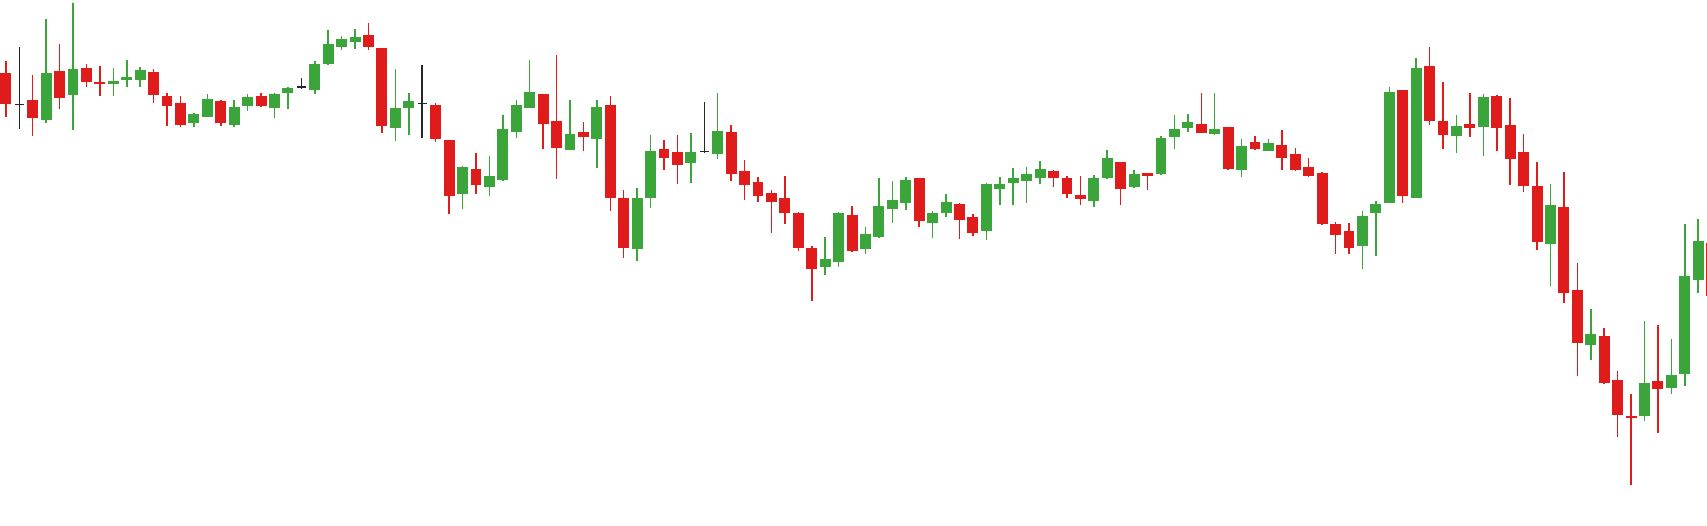buy: (622, 150, 846, 304)
sell: (417, 56, 539, 160)
